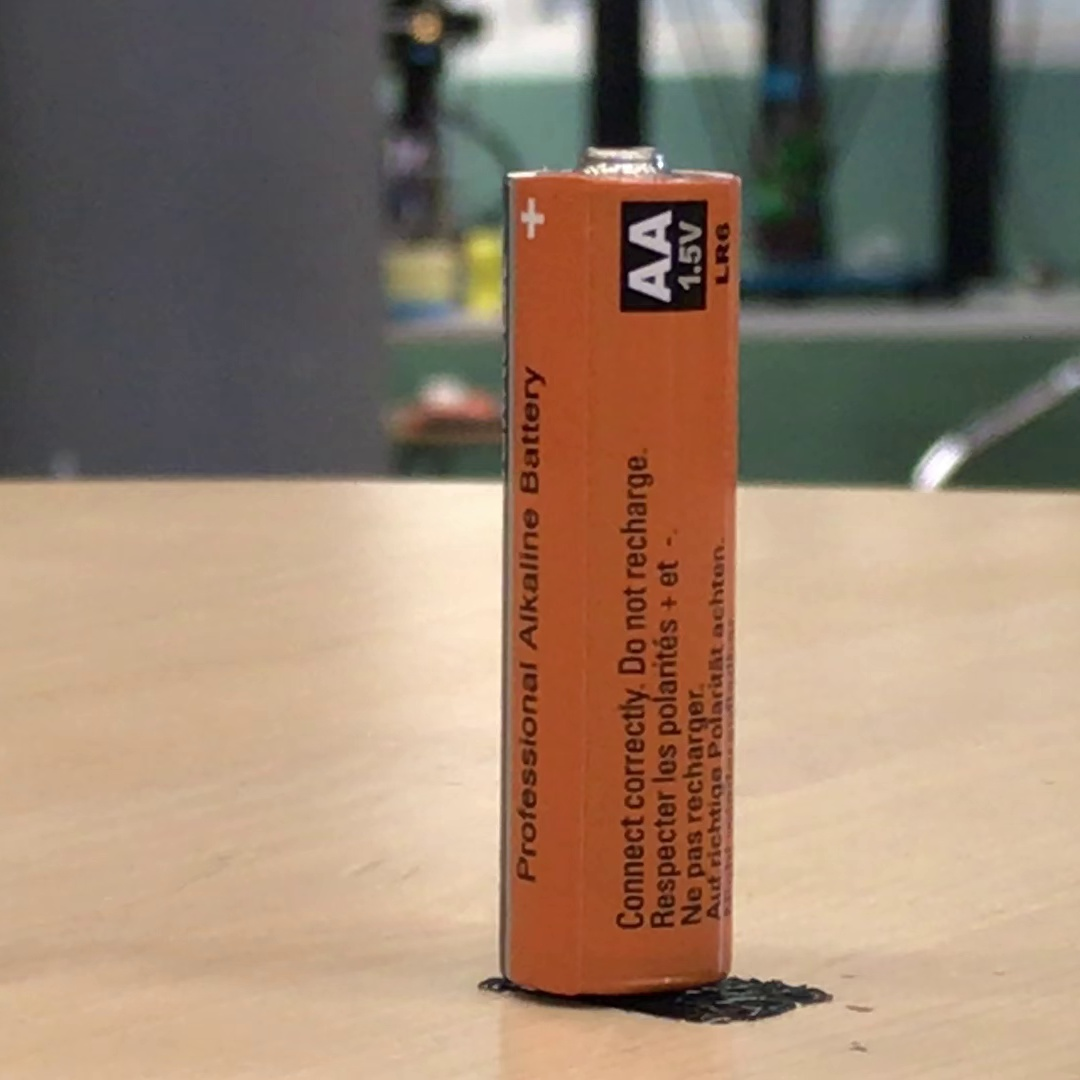keyword: (508, 603, 548, 660)
